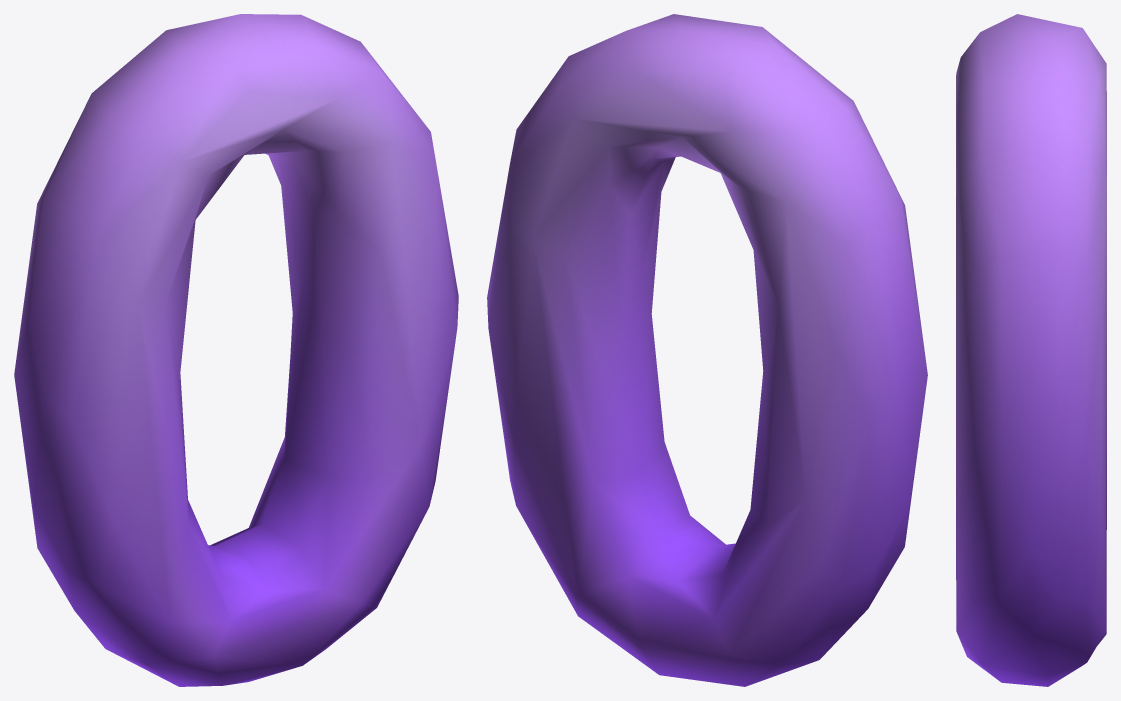
3 renders of one model, left to right at view 1: azimuth 30°, elevation 25°; view 2: azimuth 150°, elevation 25°; view 3: azimuth 270°, elevation 25°, orthographic. The views are drawn at different scales.
Parts seen in each view (by area): view 1: Processed_Mesh0_Geometry; view 2: Processed_Mesh0_Geometry; view 3: Processed_Mesh0_Geometry.
Part boxes in pixels (box(x1,y1,x2,y2)): Processed_Mesh0_Geometry: box(14, 14, 458, 686); Processed_Mesh0_Geometry: box(487, 14, 927, 686); Processed_Mesh0_Geometry: box(956, 14, 1106, 686).
Size of what is drawn, in the model's own units: 0.0544 by 0.0818 by 0.0177.
1 material, 1 textured.
